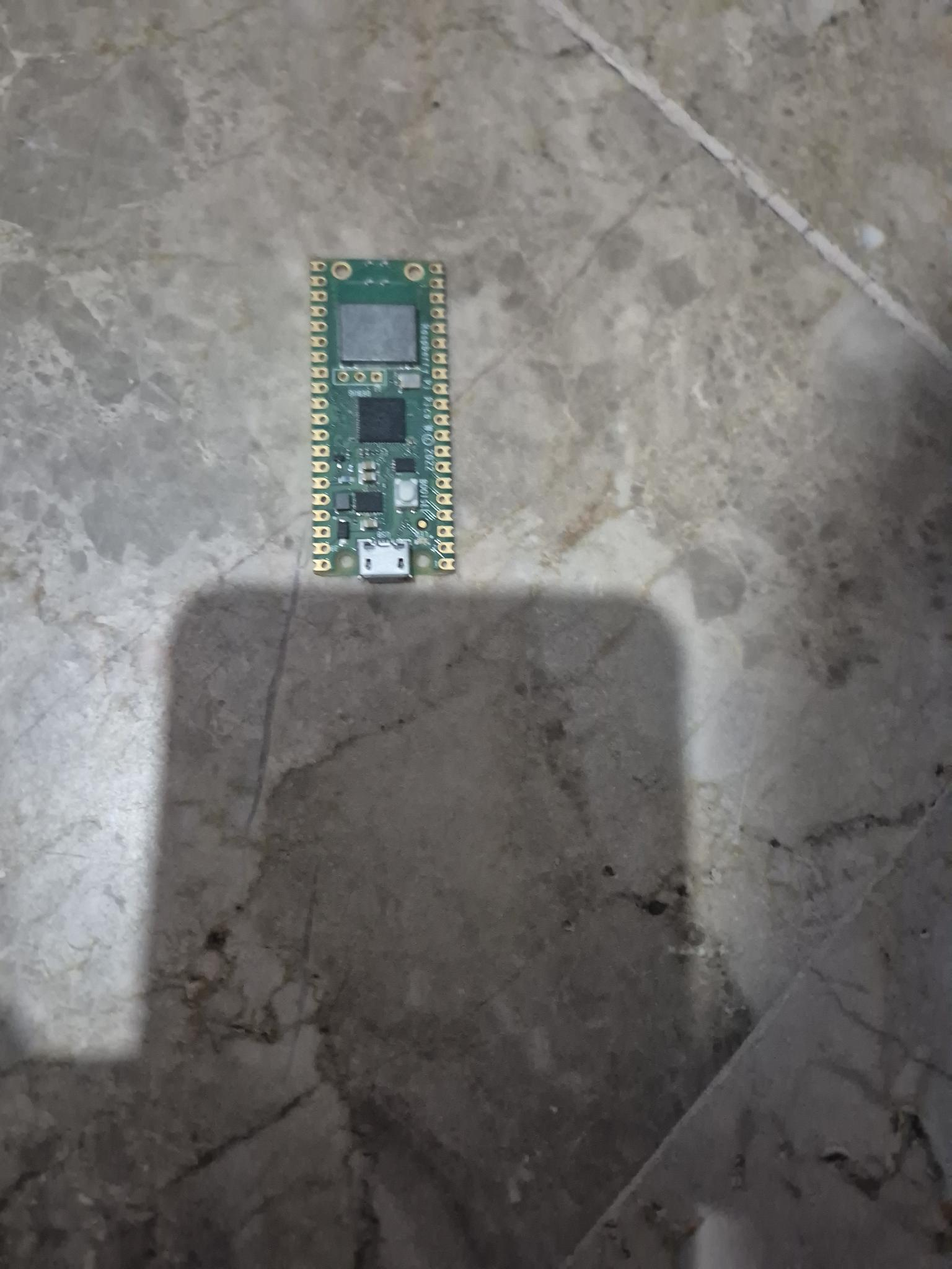raspberry-pi-pico-w: (310, 259, 454, 581)
